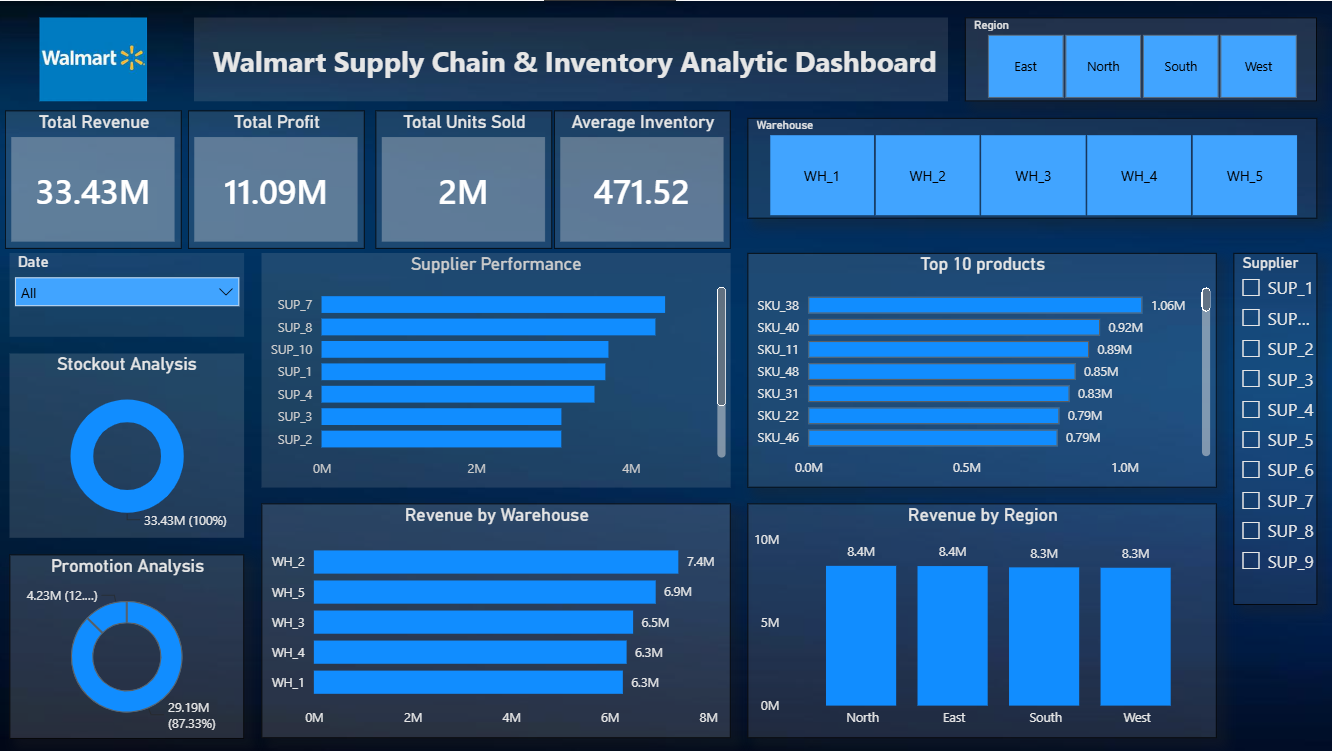

The page's visual inventory and layout, read from the dashboard file:
{"tool":"powerbi","page":{"name":"Page 1","canvas":[1280,720],"ordinal":0},"visuals":[{"type":"textbox","box":[192,16,720,80],"z":0},{"type":"cardVisual","title":"Total Revenue","fields":{"Data":["Sum(Supply_Chain_Cleaned.Revenue)"]},"box":[11.1,105,168.6,132],"z":1000},{"type":"clusteredColumnChart","title":" Revenue by Region","fields":{"Category":["Supply_Chain_Cleaned.Region"],"Y":["Sum(Supply_Chain_Cleaned.Revenue)"]},"box":[720,480,448,224],"z":2000},{"type":"clusteredBarChart","title":" Revenue by Warehouse","fields":{"Category":["Supply_Chain_Cleaned.Warehouse_ID"],"Y":["Sum(Supply_Chain_Cleaned.Revenue)"]},"box":[256,480,448,224],"z":3000},{"type":"donutChart","title":"Promotion Analysis","fields":{"Category":["Supply_Chain_Cleaned.Promotion_Flag"],"Y":["Sum(Supply_Chain_Cleaned.Revenue)"]},"box":[16,528,224,176],"z":4000},{"type":"barChart","title":"Top 10 products ","fields":{"Category":["Supply_Chain_Cleaned.SKU_ID"],"Y":["Sum(Supply_Chain_Cleaned.Revenue)"]},"box":[720,240,448,224],"z":5000},{"type":"clusteredBarChart","title":"Supplier Performance","fields":{"Category":["Supply_Chain_Cleaned.Supplier_ID"],"Y":["Sum(Supply_Chain_Cleaned.Revenue)"]},"box":[256,240,448,224],"z":6000},{"type":"donutChart","title":"Stockout Analysis","fields":{"Category":["Supply_Chain_Cleaned.Stockout_Flag"],"Y":["Sum(Supply_Chain_Cleaned.Revenue)"]},"box":[16,336,224,176],"z":7000},{"type":"slicer","fields":{"Values":["Supply_Chain_Cleaned.Warehouse_ID"]},"box":[720,112,544,96],"z":8000},{"type":"slicer","fields":{"Values":["Supply_Chain_Cleaned.Region"]},"box":[928,16,336,80],"z":9000},{"type":"slicer","fields":{"Values":["Supply_Chain_Cleaned.Supplier_ID"]},"box":[1184,240,80,336],"z":10000},{"type":"slicer","fields":{"Values":["Supply_Chain_Cleaned.Date"]},"box":[16,240,224,80],"z":11000},{"type":"cardVisual","title":"Total Profit","fields":{"Data":["Sum(Supply_Chain_Cleaned.Profit )"]},"box":[186.1,105,168.6,132],"z":12000},{"type":"cardVisual","title":"Total Units Sold","fields":{"Data":["Sum(Supply_Chain_Cleaned.Units_Sold)"]},"box":[365.8,105,168.6,132],"z":13000},{"type":"cardVisual","title":"Average Inventory","fields":{"Data":["Avg(Supply_Chain_Cleaned.Inventory_Level)"]},"box":[536,105,168.6,132],"z":14000},{"type":"image","box":[16,16,160,80],"z":15000}]}

Visuals, with their boxes in screenshot pixels (x1, y1, x2, y2), scaled from the page's 1280x720 canvas onto the 1332x751 screenshot:
textbox: bbox=[200, 17, 949, 100]
"Total Revenue" cardVisual: bbox=[12, 110, 187, 247]
" Revenue by Region" clusteredColumnChart: bbox=[749, 501, 1215, 734]
" Revenue by Warehouse" clusteredBarChart: bbox=[266, 501, 733, 734]
"Promotion Analysis" donutChart: bbox=[17, 551, 250, 734]
"Top 10 products " barChart: bbox=[749, 250, 1215, 484]
"Supplier Performance" clusteredBarChart: bbox=[266, 250, 733, 484]
"Stockout Analysis" donutChart: bbox=[17, 350, 250, 534]
slicer - Supply_Chain_Cleaned.Warehouse_ID: bbox=[749, 117, 1315, 217]
slicer - Supply_Chain_Cleaned.Region: bbox=[966, 17, 1315, 100]
slicer - Supply_Chain_Cleaned.Supplier_ID: bbox=[1232, 250, 1315, 601]
slicer - Supply_Chain_Cleaned.Date: bbox=[17, 250, 250, 334]
"Total Profit" cardVisual: bbox=[194, 110, 369, 247]
"Total Units Sold" cardVisual: bbox=[381, 110, 556, 247]
"Average Inventory" cardVisual: bbox=[558, 110, 733, 247]
image: bbox=[17, 17, 183, 100]
